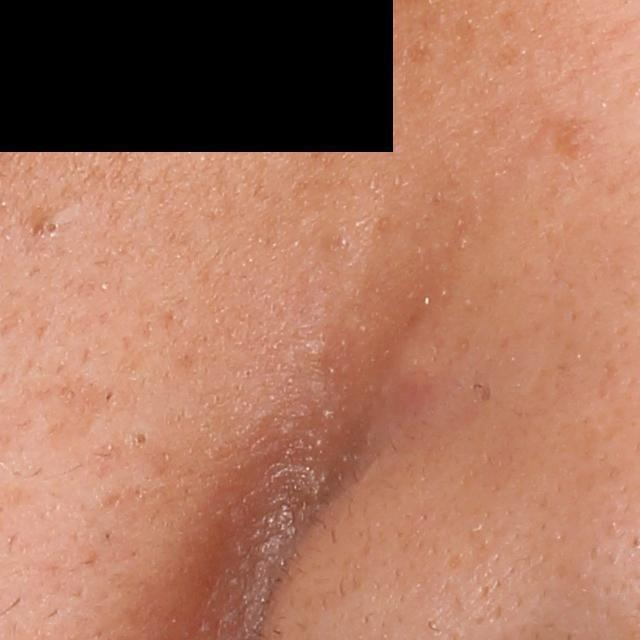comedo: (37, 207, 70, 247), (130, 427, 147, 449)
